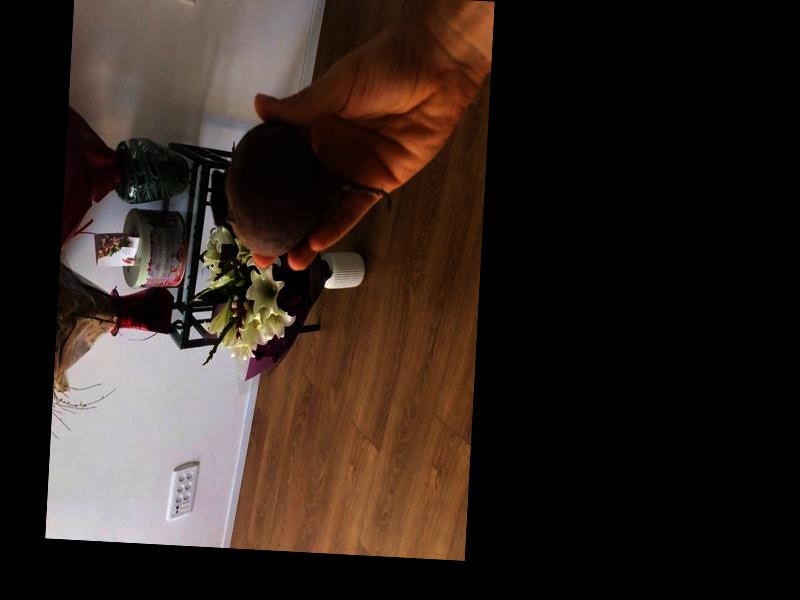Beet: (207, 119, 394, 263)
